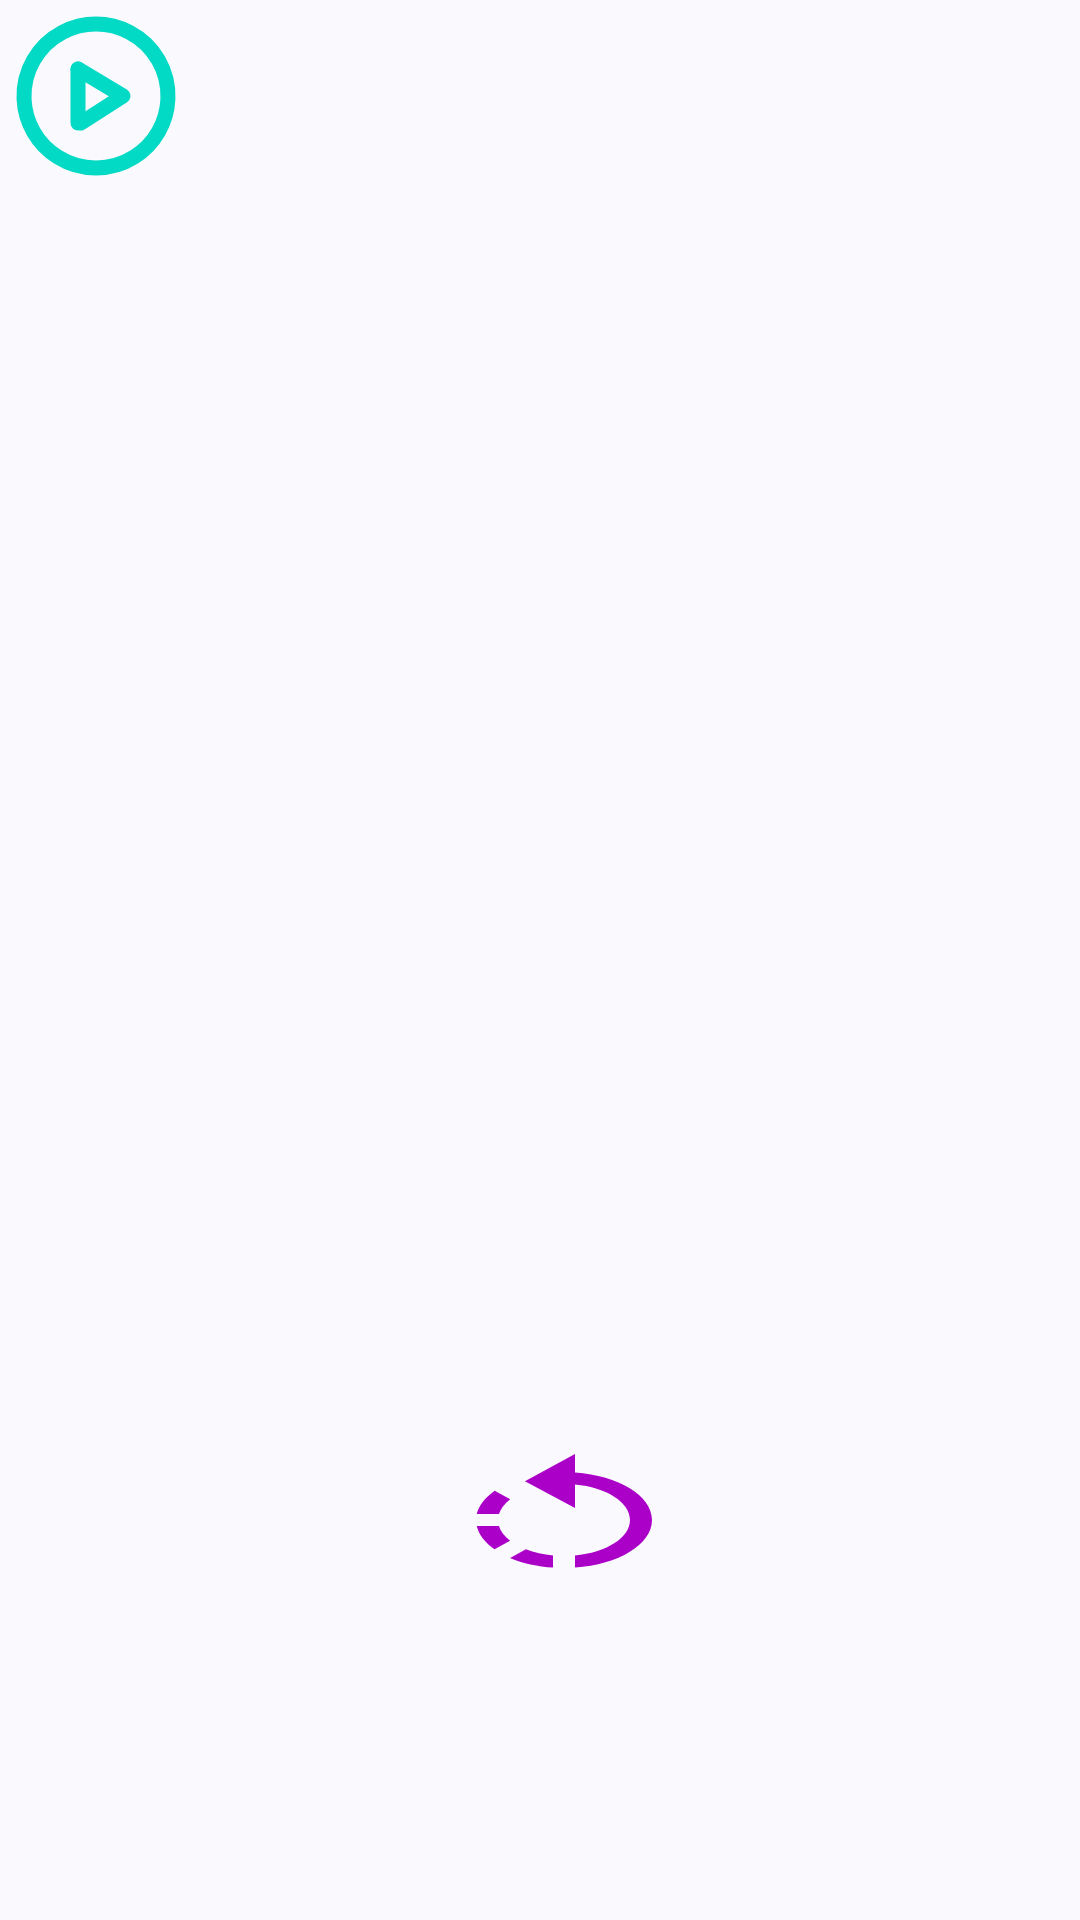

Named icons in this screenshot (1080w x 1920h) and their centers, [x,y]:
rotate left: [564,1511]
